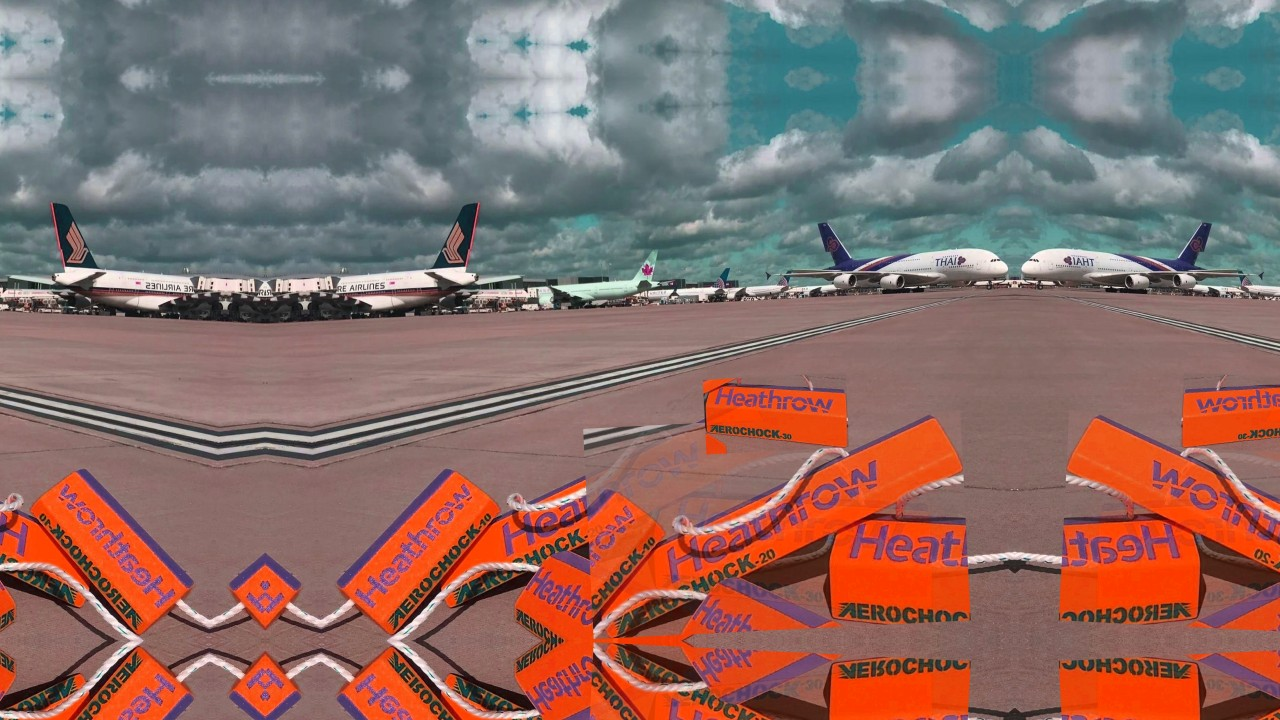chock: (583, 410, 971, 639), (424, 395, 786, 609), (1059, 410, 1280, 639), (648, 471, 937, 633), (23, 461, 204, 639), (326, 461, 507, 639), (1093, 471, 1280, 633), (583, 643, 971, 720), (0, 395, 106, 609), (648, 649, 937, 720), (510, 543, 698, 641), (1059, 643, 1280, 720), (424, 673, 786, 720), (510, 641, 698, 720), (23, 643, 204, 720), (326, 643, 507, 720), (1093, 649, 1280, 720), (703, 373, 849, 454), (1181, 373, 1280, 454), (0, 543, 20, 641)
